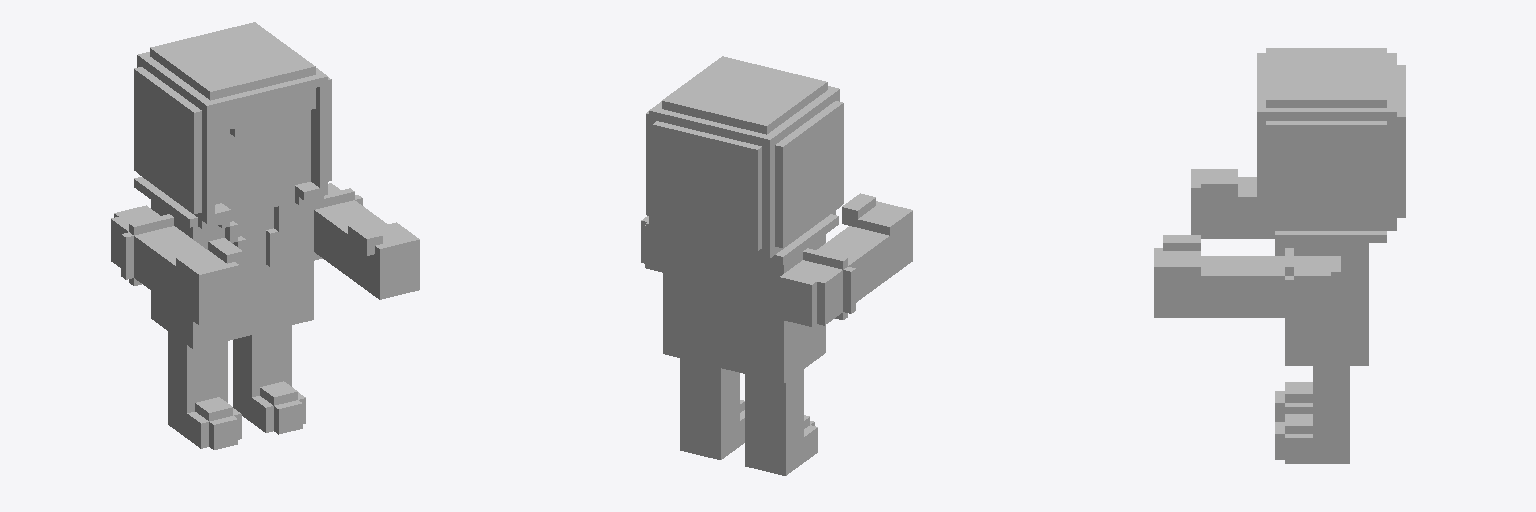
The model's file is archer2 (1).obj.
3 views of the same model, side by side, from view 1: azimuth 30°, elevation 25°; view 2: azimuth 150°, elevation 25°; view 3: azimuth 270°, elevation 25° (orthographic).
Parts seen in each view (by area): view 1: object 1; view 2: object 1; view 3: object 1.
Boxes of the visible parts, <box> form: object 1: <box>111,22,419,449</box>; object 1: <box>641,56,912,475</box>; object 1: <box>1154,48,1405,463</box>.
Size of the model in its own units: 2.7 by 4.3 by 2.7.